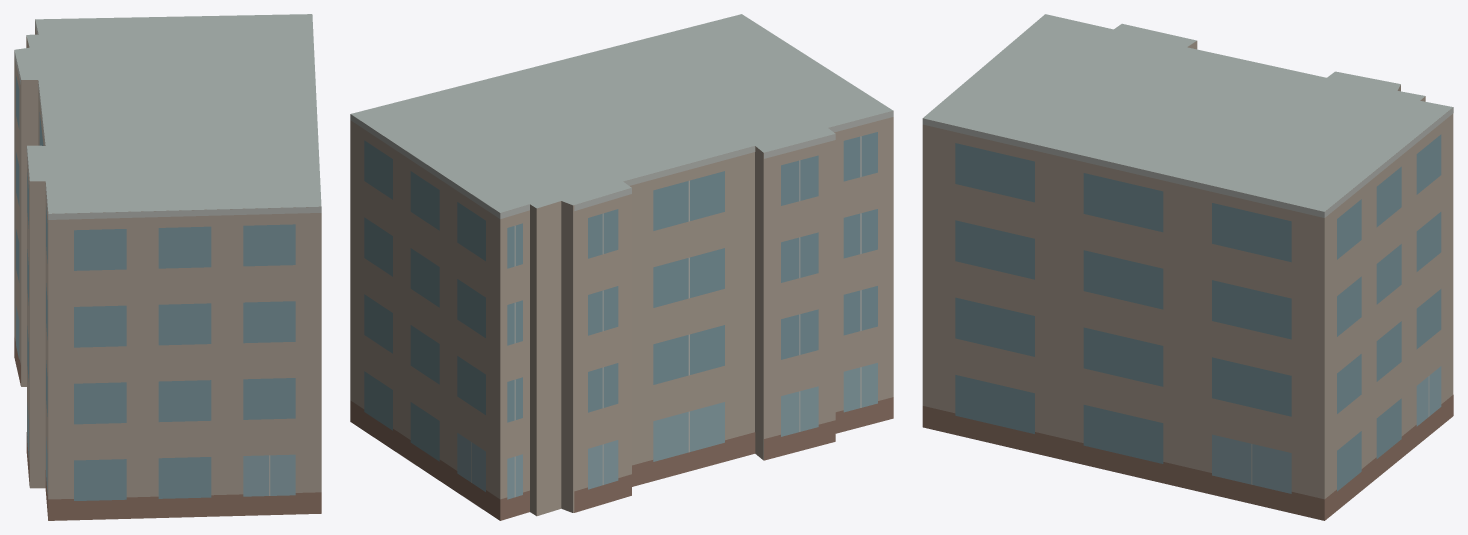
Rendered from survey-upis-32543153.glb.
The picture shows the model from 3 angles, left to right: view 1: azimuth 30°, elevation 25°; view 2: azimuth 150°, elevation 25°; view 3: azimuth 270°, elevation 25°; orthographic projection.
Visible parts, largest first — view 1: survey-upis-32543153.tmp; view 2: survey-upis-32543153.tmp; view 3: survey-upis-32543153.tmp.
Boxes of the visible parts, x1,y1,x2,y2 form: survey-upis-32543153.tmp: (14,14,321,520); survey-upis-32543153.tmp: (350,14,893,520); survey-upis-32543153.tmp: (922,14,1453,520).
Size of the model in its own units: 16.76 by 12.2 by 19.
